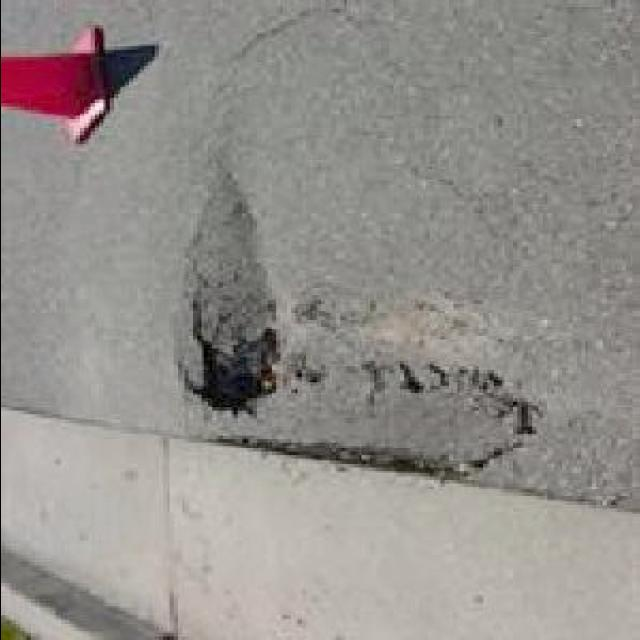pothole: (164, 151, 310, 423), (351, 345, 555, 476)
